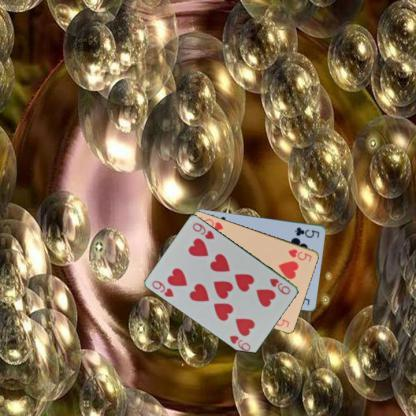5c: (292, 224, 321, 238)
5h: (286, 246, 313, 262)
9h: (267, 275, 292, 296), (150, 278, 176, 298)
